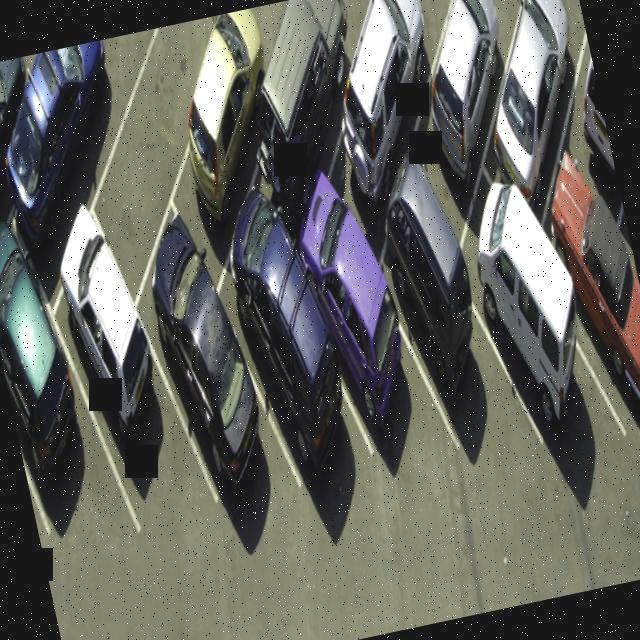space-empty: (59, 18, 246, 257)
space-occupied: (406, 167, 635, 495), (87, 198, 311, 531), (176, 193, 391, 510), (255, 189, 457, 502), (331, 185, 528, 479), (16, 241, 210, 524), (490, 152, 640, 497), (0, 230, 148, 558), (295, 0, 470, 238), (140, 6, 306, 238), (222, 0, 386, 226), (444, 0, 608, 208), (0, 31, 174, 225), (383, 0, 530, 190), (0, 51, 80, 249), (524, 0, 614, 176), (585, 169, 640, 446)
